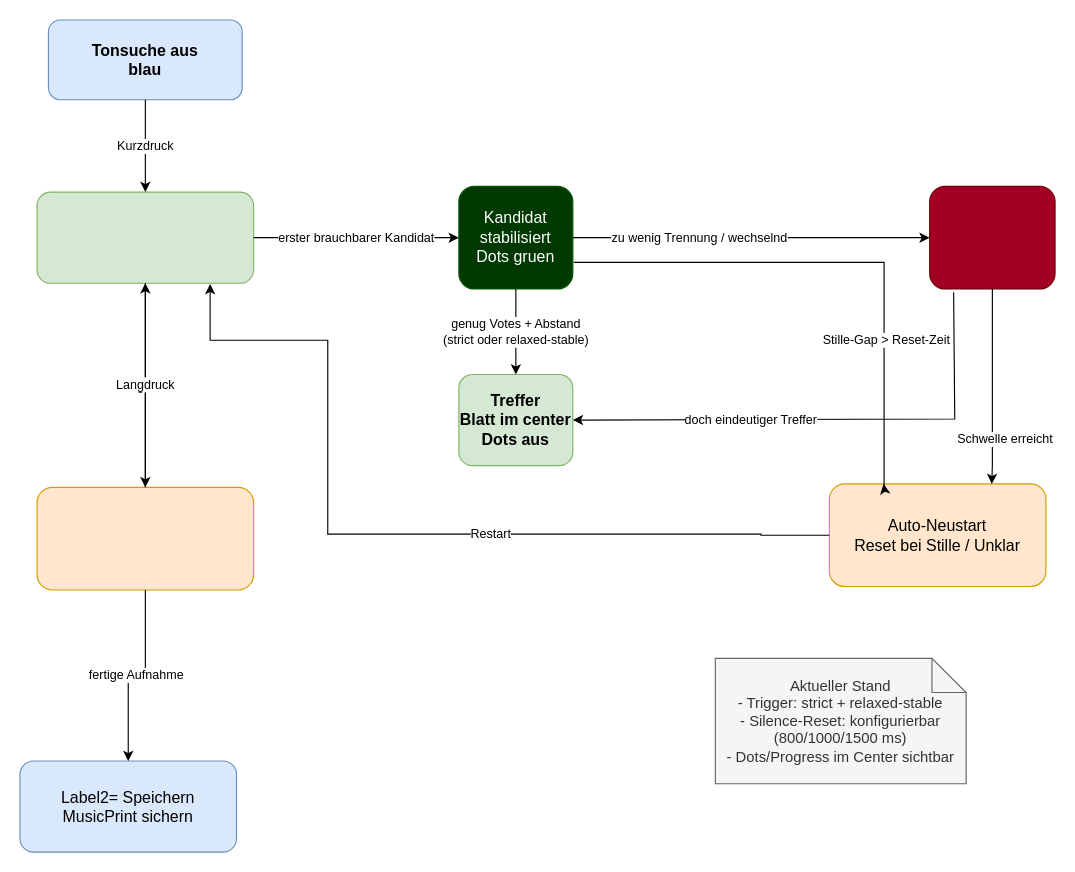
This 1075x872 diagram has some shape labels left out. Here are the shapes that lost their labels. From the top down, the centre of each, then its label:
At (145,237): "Tonsuche an gruen Phase: Sammeln (grau) / Warten".
At (992,237): "Suche bleibt unklar Dots braun".
At (145,538): "Aufnahme-Modus orange".
